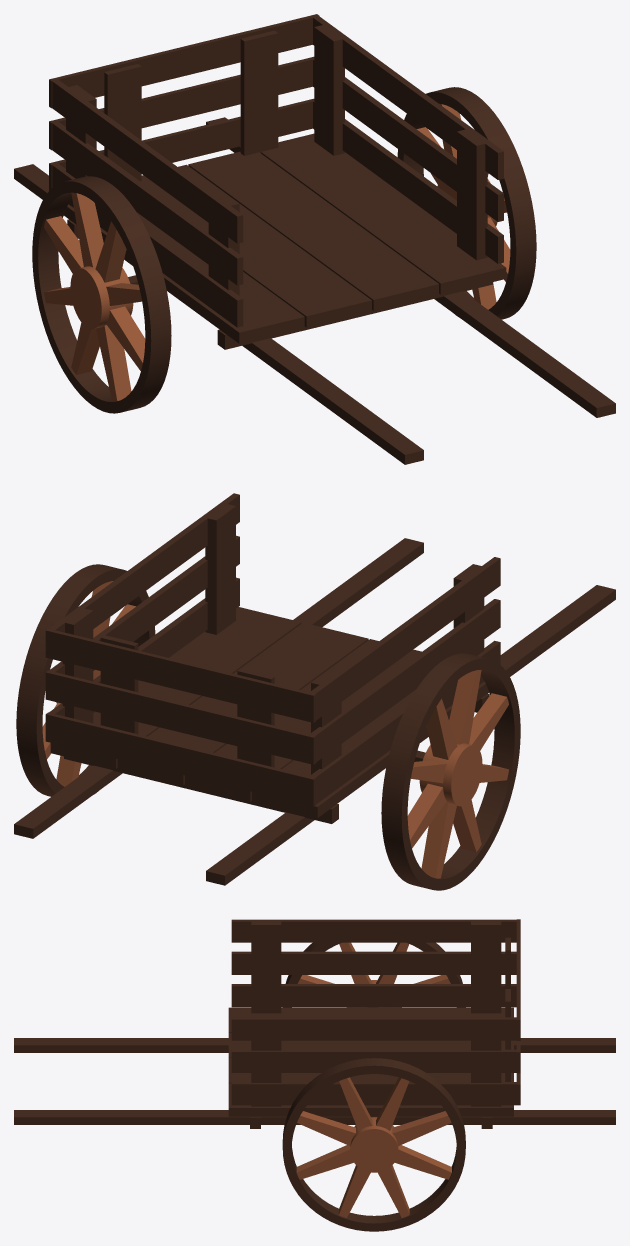
The picture shows the model from 3 angles, top to bottom: view 1: azimuth 30°, elevation 25°; view 2: azimuth 150°, elevation 25°; view 3: azimuth 270°, elevation 25°; orthographic projection. The views are drawn at different scales.
Visible parts, largest first — view 1: floor_plank.003, rim, floor_plank.004, floor_plank.002, rim.001, side_slat, side_slat.001, rear_slat, beam, side_slat.003, beam.001, floor_plank.001 (+20 smaller); view 2: rim, rear_slat.001, rear_slat.002, rear_slat, rim.001, floor_plank.003, side_slat, floor_plank.004, side_slat.001, beam.001, beam, side_slat.003 (+20 smaller); view 3: rim.001, side_slat.003, beam.001, side_slat.004, side_slat, side_slat.001, side_slat.002, side_slat.005, beam, side_post.001, side_post.002, floor_plank.004 (+16 smaller).
Boxes of the visible parts, left/top/right/bottom form: floor_plank.003: left=188, top=151, right=438, bottom=310; rim: left=32, top=176, right=171, bottom=413; floor_plank.004: left=261, top=133, right=506, bottom=294; floor_plank.002: left=140, top=164, right=371, bottom=327; rim.001: left=397, top=87, right=536, bottom=319; side_slat: left=50, top=78, right=243, bottom=243; side_slat.001: left=50, top=119, right=243, bottom=285; rear_slat: left=49, top=14, right=319, bottom=108; beam: left=14, top=164, right=423, bottom=464; side_slat.003: left=311, top=14, right=503, bottom=179; beam.001: left=206, top=117, right=615, bottom=417; floor_plank.001: left=63, top=204, right=304, bottom=343; rim: left=381, top=653, right=520, bottom=890; rear_slat.001: left=45, top=670, right=316, bottom=764; rear_slat.002: left=45, top=712, right=316, bottom=806; rear_slat: left=45, top=628, right=316, bottom=722; rim.001: left=16, top=564, right=155, bottom=796; floor_plank.003: left=117, top=622, right=368, bottom=785; side_slat: left=307, top=557, right=500, bottom=719; floor_plank.004: left=50, top=607, right=301, bottom=768; side_slat.001: left=307, top=599, right=500, bottom=761; beam.001: left=14, top=538, right=423, bottom=838; beam: left=206, top=585, right=615, bottom=885; side_slat.003: left=46, top=493, right=239, bottom=632; rim.001: left=282, top=1058, right=465, bottom=1231; side_slat.003: left=231, top=1017, right=520, bottom=1040; beam.001: left=14, top=1110, right=615, bottom=1124; side_slat.004: left=231, top=1049, right=520, bottom=1072; side_slat: left=231, top=919, right=520, bottom=942; side_slat.001: left=231, top=951, right=516, bottom=974; side_slat.002: left=231, top=984, right=516, bottom=1007; side_slat.005: left=231, top=1082, right=520, bottom=1105; beam: left=14, top=1038, right=615, bottom=1052; side_post.001: left=251, top=921, right=281, bottom=1013; side_post.002: left=471, top=921, right=501, bottom=1013; floor_plank.004: left=228, top=1083, right=513, bottom=1116.
Bounding box in the file's own units: 0.703 × 0.412 × 1.2.
